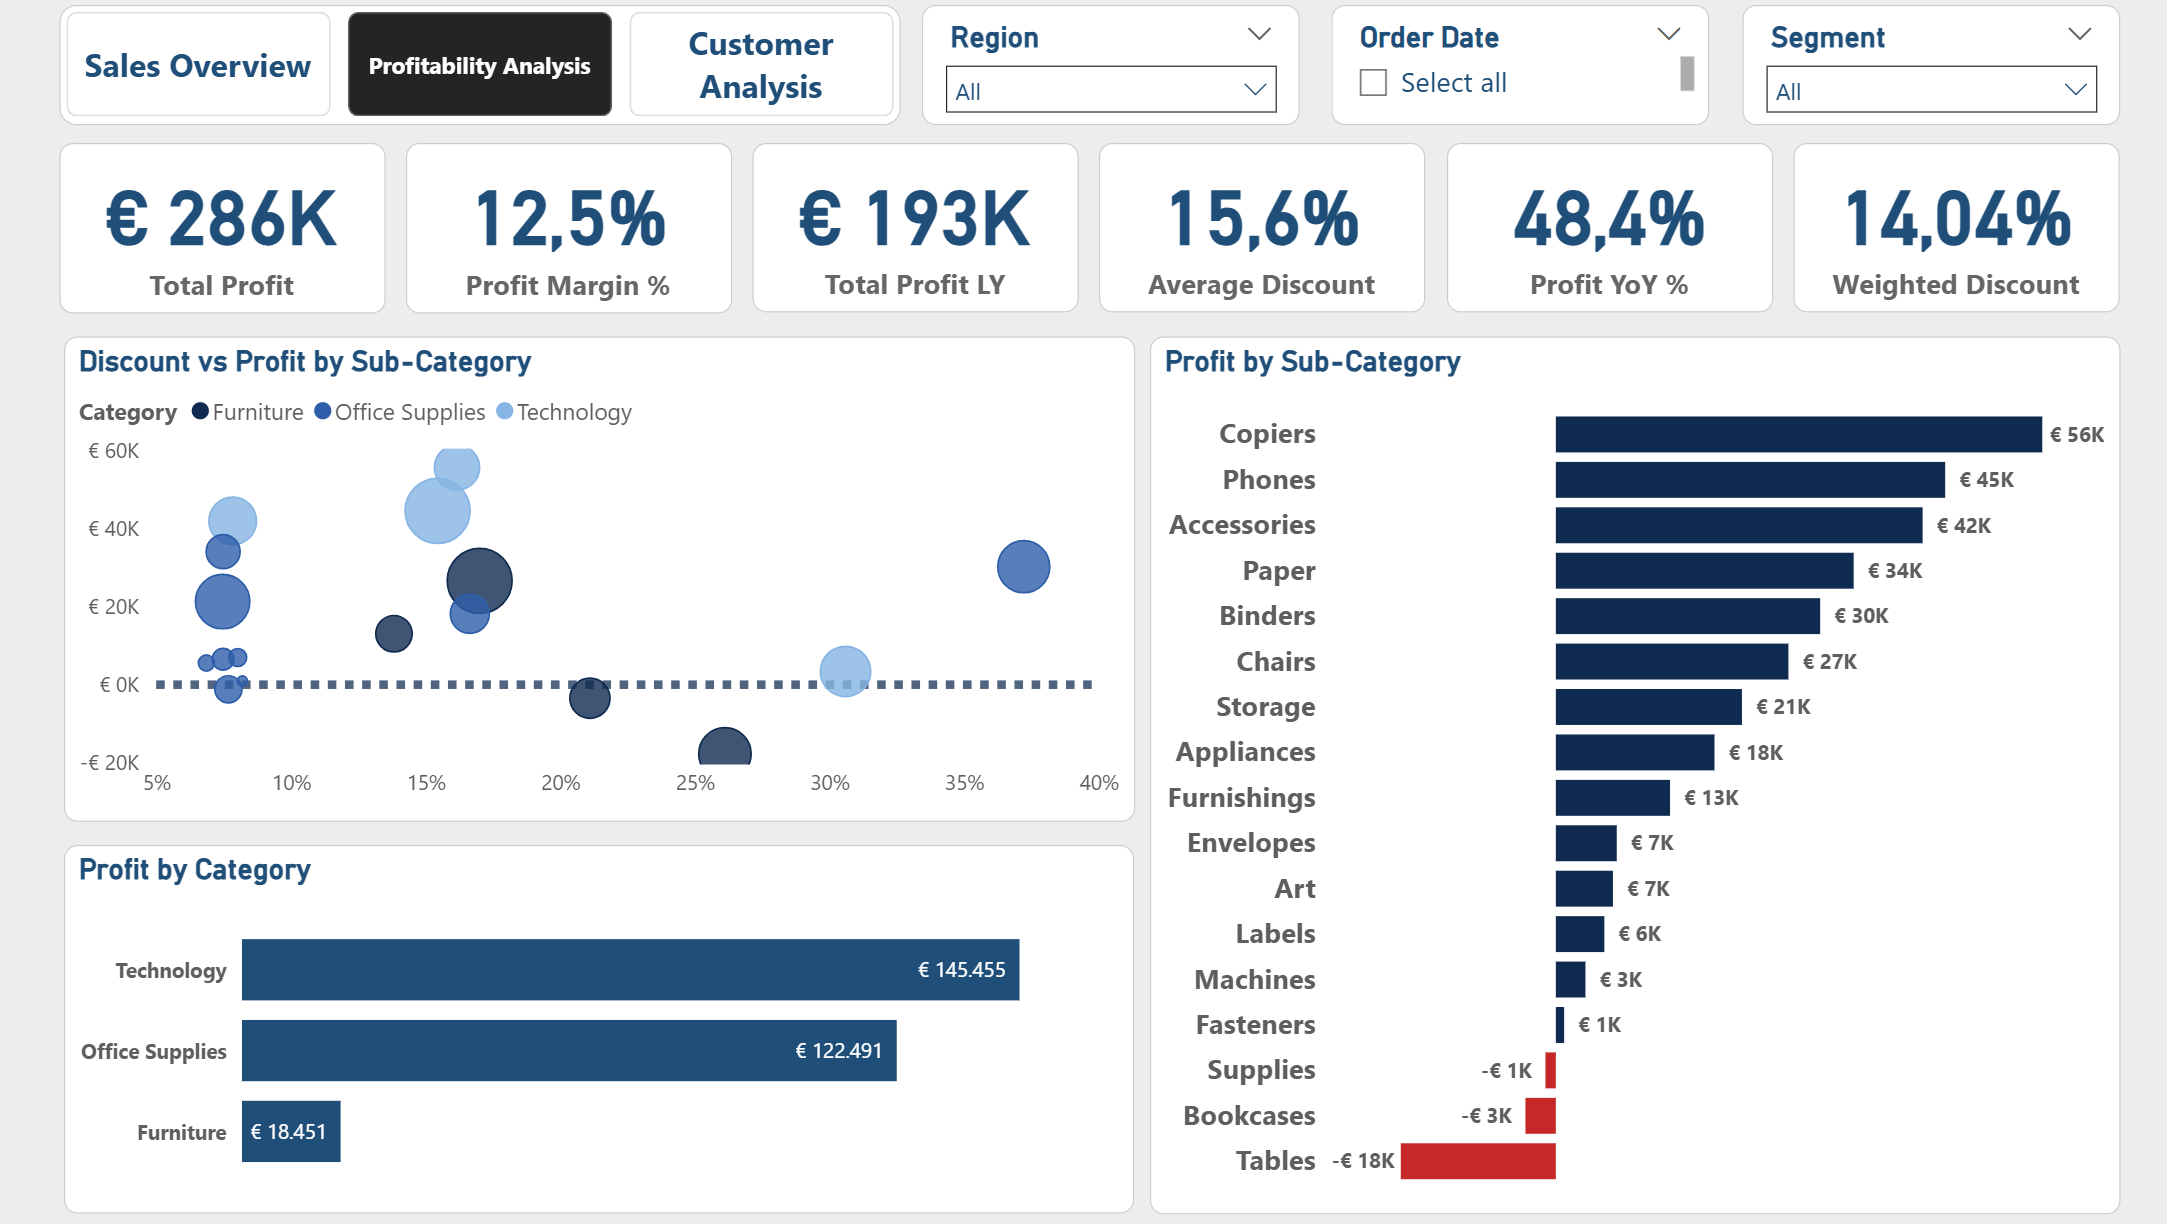

The dashboard page shown, as its layout file describes it:
{"tool":"powerbi","page":{"name":"Profitability Analysis","canvas":[1280,720],"ordinal":1},"visuals":[{"type":"slicer","fields":{"Values":["Fact_Sales.Order Date"]},"box":[782.2,5.1,220.3,70],"z":0},{"type":"slicer","fields":{"Values":["Dim_Customer.Segment"]},"box":[1021.1,5.1,220.3,70],"z":1000},{"type":"slicer","fields":{"Values":["Dim_Geography.Region"]},"box":[543.2,5.1,220.3,70],"z":2000},{"type":"card","fields":{"Values":["_Measures.Total Profit"]},"box":[40.7,85.3,189.7,99.3],"z":3000},{"type":"card","fields":{"Values":["_Measures.Profit Margin %"]},"box":[242.7,85.3,189.7,99.3],"z":4000},{"type":"card","fields":{"Values":["_Measures.Average Discount"]},"box":[646.8,85.3,190,98.9],"z":5000},{"type":"scatterChart","title":"Discount vs Profit by Sub-Category","fields":{"Y":["_Measures.Total Profit"],"Size":["_Measures.Total Sales"],"X":["_Measures.Average Discount"],"Category":["Dim_Product.Sub-Category"],"Series":["Dim_Product.Category"]},"box":[43.3,198.6,623.9,282.7],"z":6000},{"type":"clusteredBarChart","title":"Profit by Sub-Category","fields":{"Category":["Dim_Product.Sub-Category"],"Y":["_Measures.Total Profit"]},"box":[676.2,198.6,565.1,511.1],"z":7000},{"type":"clusteredBarChart","title":"Profit by Category","fields":{"Category":["Dim_Product.Category"],"Y":["_Measures.Total Profit"]},"box":[43.8,494.3,623.7,214.8],"z":8000},{"type":"card","fields":{"Values":["_Measures.Total Profit LY"]},"box":[444.6,85.3,190,98.9],"z":9000},{"type":"card","fields":{"Values":["_Measures.Profit YoY %"]},"box":[849,85.3,190,98.9],"z":10000},{"type":"card","fields":{"Values":["_Measures.Weighted Avg Discount"]},"box":[1051.3,85.3,190,98.9],"z":11000},{"type":"pageNavigator","box":[41.4,4.8,490,69.8],"z":12000}]}

Visuals, with their boxes in screenshot pixels (x1, y1, x2, y2), scaled from the page's 1280x720 canvas onto the 2167x1224 screenshot:
slicer - Fact_Sales.Order Date: l=1324, t=9, r=1697, b=128
slicer - Dim_Customer.Segment: l=1729, t=9, r=2102, b=128
slicer - Dim_Geography.Region: l=920, t=9, r=1293, b=128
card - _Measures.Total Profit: l=69, t=145, r=390, b=314
card - _Measures.Profit Margin %: l=411, t=145, r=732, b=314
card - _Measures.Average Discount: l=1095, t=145, r=1417, b=313
"Discount vs Profit by Sub-Category" scatterChart: l=73, t=338, r=1130, b=818
"Profit by Sub-Category" clusteredBarChart: l=1145, t=338, r=2101, b=1206
"Profit by Category" clusteredBarChart: l=74, t=840, r=1130, b=1205
card - _Measures.Total Profit LY: l=753, t=145, r=1074, b=313
card - _Measures.Profit YoY %: l=1437, t=145, r=1759, b=313
card - _Measures.Weighted Avg Discount: l=1780, t=145, r=2101, b=313
pageNavigator: l=70, t=8, r=900, b=127
